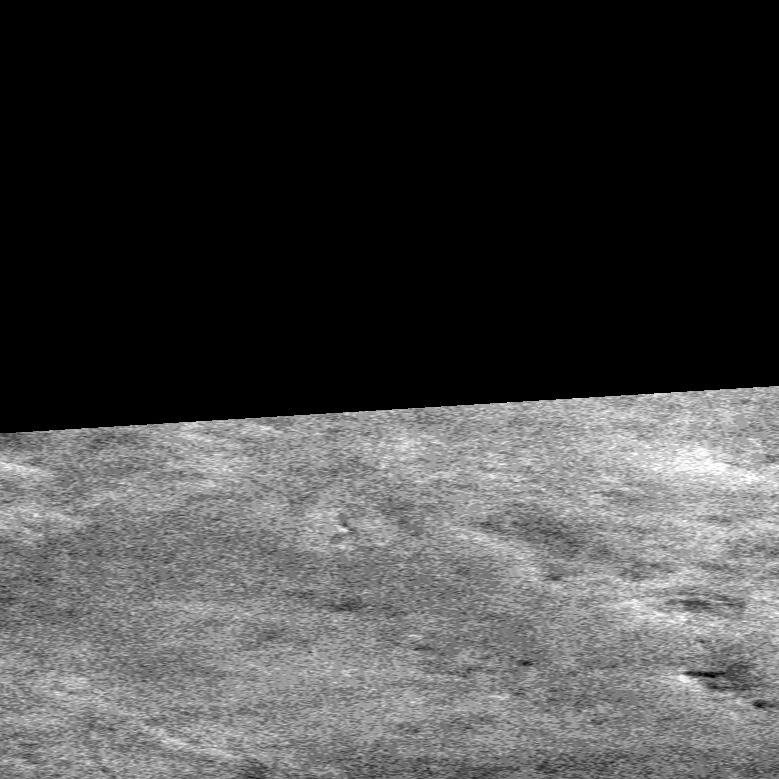dust_devil: (676, 671, 726, 684)
